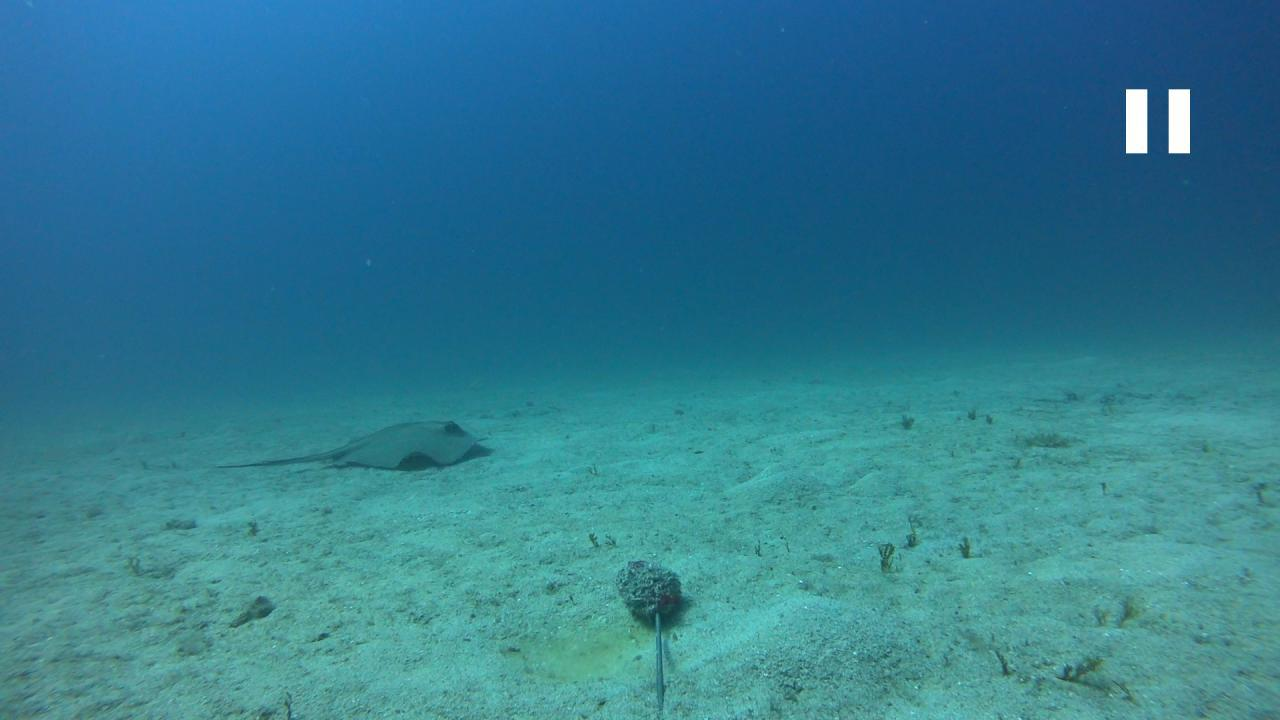dasyatis: (214, 418, 490, 470)
